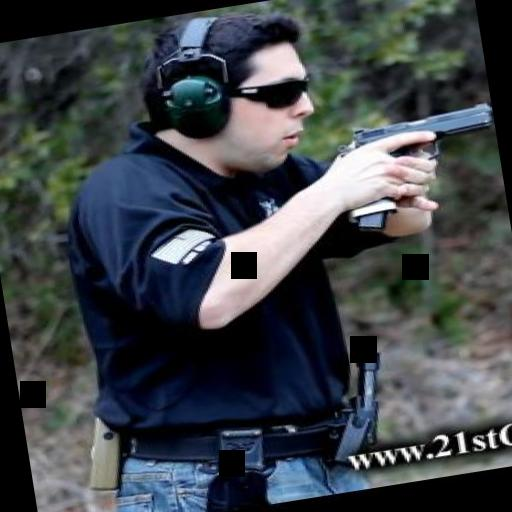Handgun: (338, 100, 506, 231)
